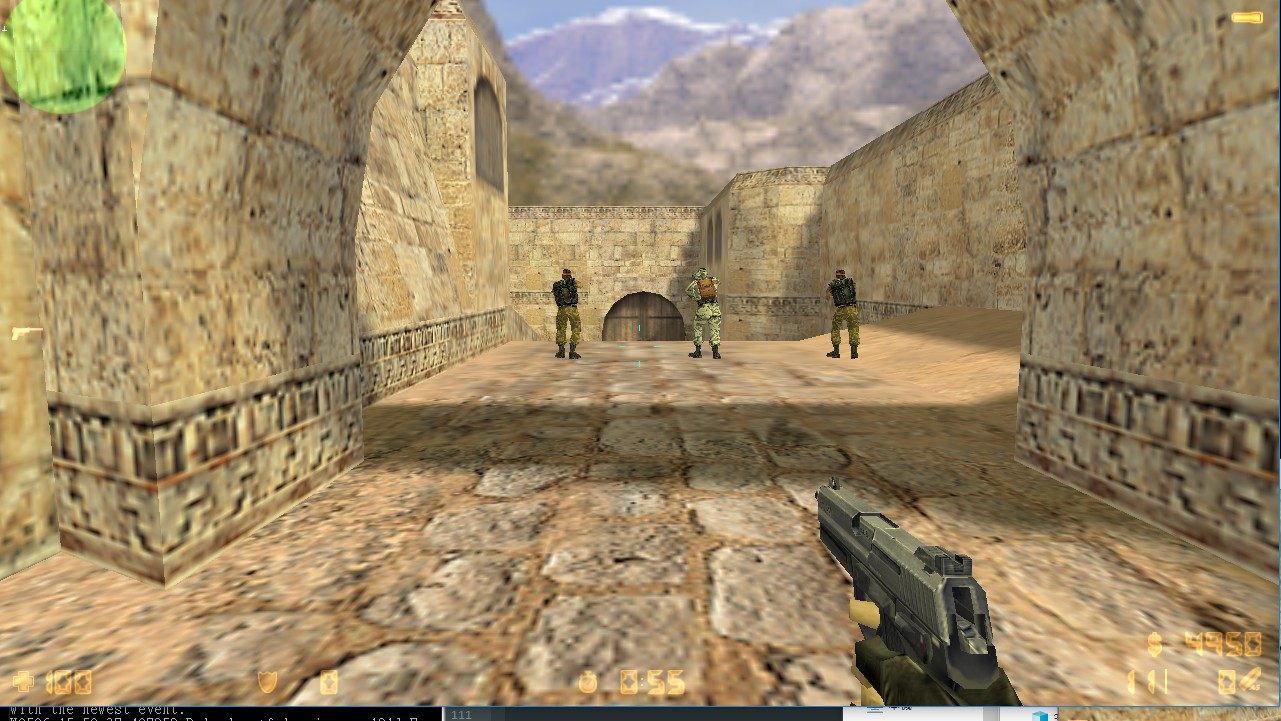person: (690, 263, 724, 359), (548, 269, 580, 355), (830, 270, 860, 358)
